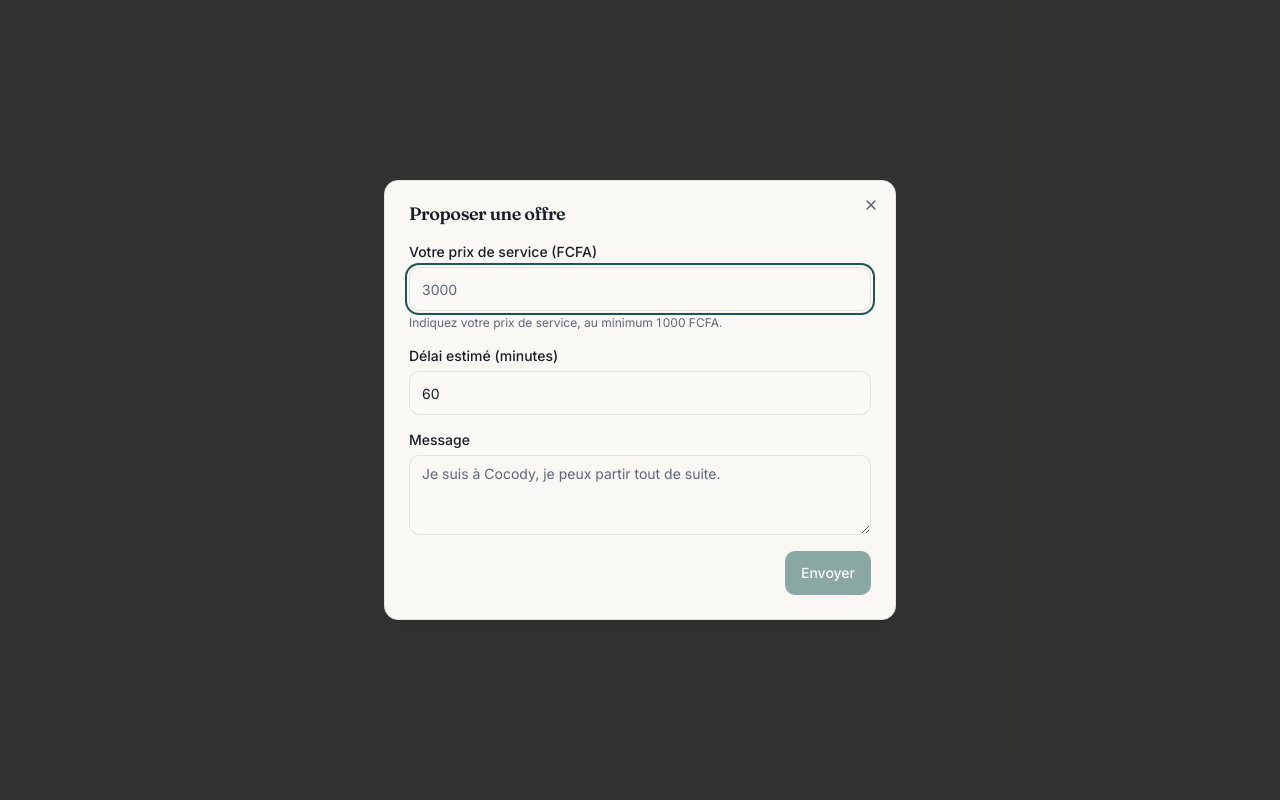
it: plancher de prix d'une offre › accepte dès que le prix atteint le plancher
Later steps or results of the test are not shown.
In the field labelled "Votre prix de service (FCFA)": (640, 289) [409,267,871,311], type "1000"
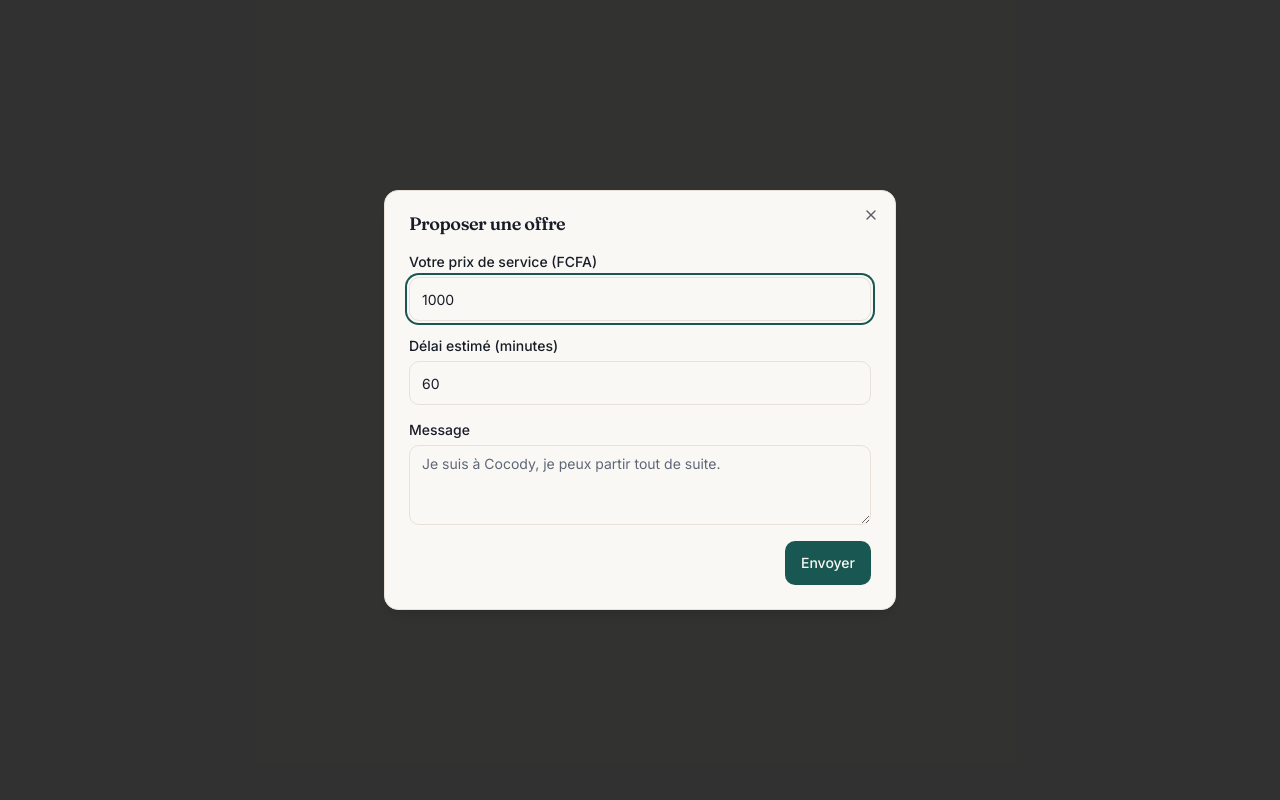
Result: the button "Envoyer" is enabled at [785,541,871,585]
